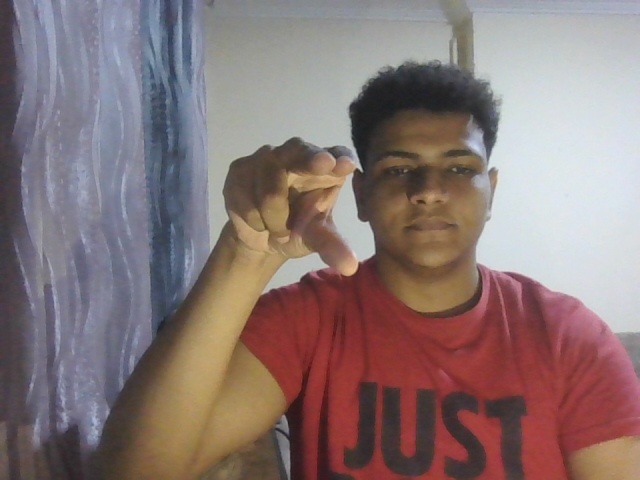no: (208, 123, 363, 306)
